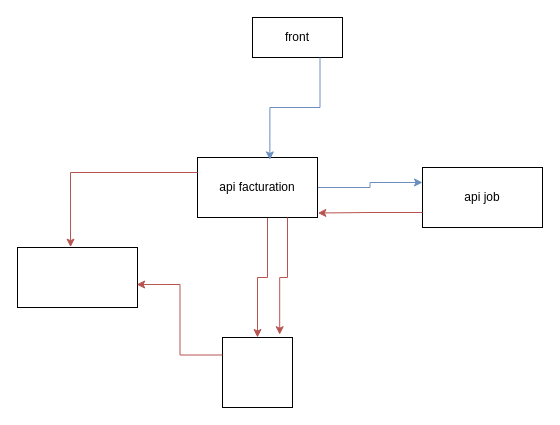
The diagram is 560 pixels wide and 425 high, and some of its shapes have lost their labels. The centre of each missing label's shape, as x and y in pixels:
"stockage objet" belongs at point (77, 277).
"webdev" belongs at point (257, 372).
